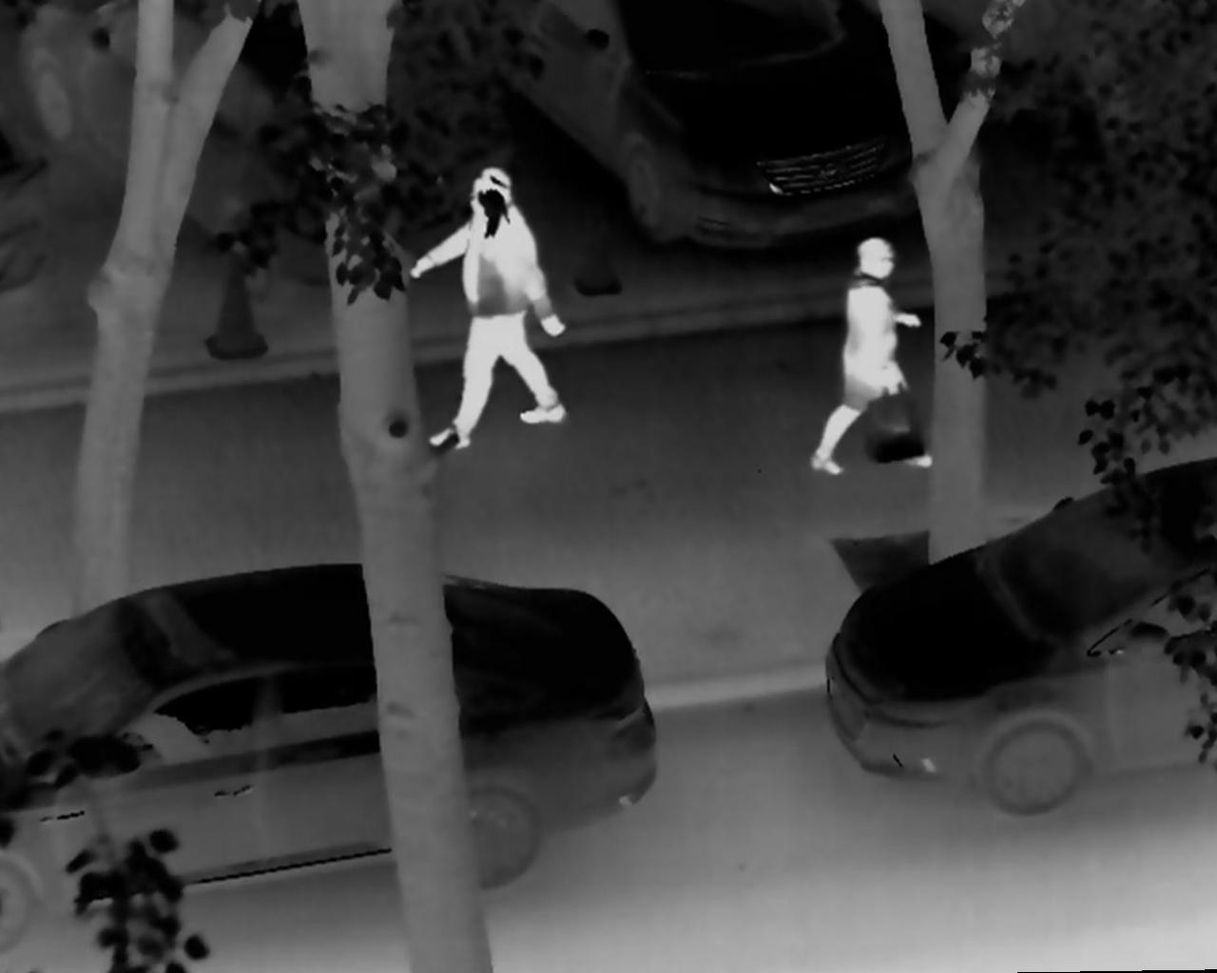person: (394, 155, 573, 457), (810, 226, 937, 476)
